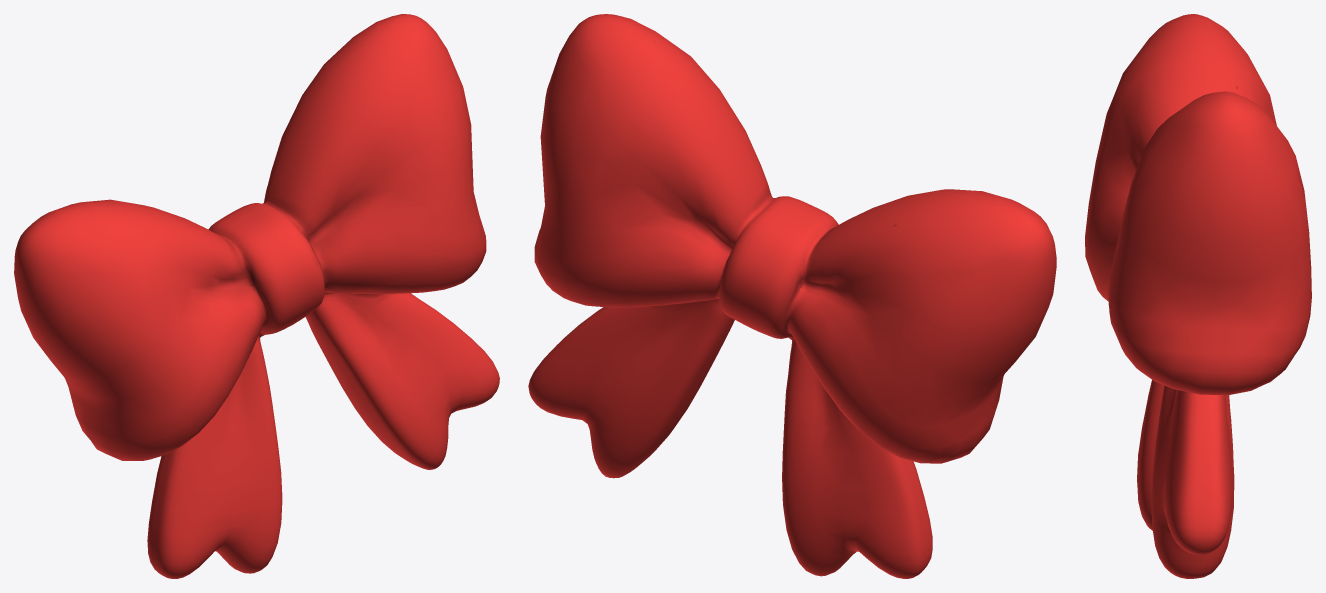
The model's file is Bow.glb.
The picture shows the model from 3 angles, left to right: view 1: azimuth 30°, elevation 25°; view 2: azimuth 150°, elevation 25°; view 3: azimuth 270°, elevation 25°; orthographic projection. The views are drawn at different scales.
Parts seen in each view (by area): view 1: Bow; view 2: Bow; view 3: Bow.
Part boxes in pixels (x1,y1,x2,y2): Bow: (14, 14, 499, 578); Bow: (528, 14, 1056, 578); Bow: (1085, 14, 1311, 578).
Size of the model in its own units: 0.2945 by 0.2898 by 0.1121.
Materials: 1 (1 with a texture image).
